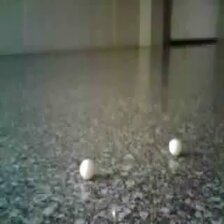w: (79, 158, 95, 180), (168, 139, 183, 156)
